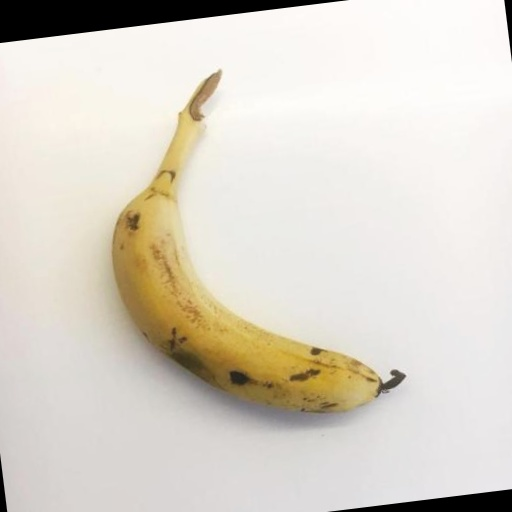fruit: (113, 71, 404, 412)
